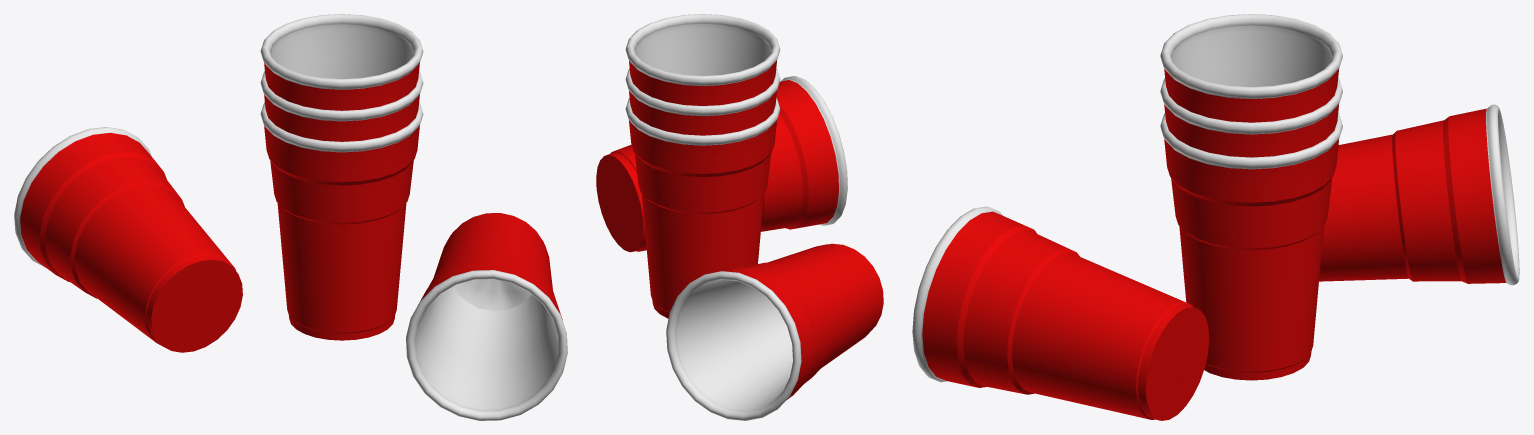
The model's file is solocup4.fbx.
3 views of the same model, side by side, from view 1: azimuth 30°, elevation 25°; view 2: azimuth 150°, elevation 25°; view 3: azimuth 270°, elevation 25° (orthographic). The views are drawn at different scales.
Visible parts, largest first — view 1: pCylinder5, pCylinder1, pCylinder6, pCylinder4, pCylinder3; view 2: pCylinder5, pCylinder1, pCylinder6, pCylinder4, pCylinder3; view 3: pCylinder6, pCylinder1, pCylinder5, pCylinder4, pCylinder3.
Part boxes in pixels (box(x1,y1,x2,y2)): pCylinder5: box(14, 127, 242, 352); pCylinder1: box(260, 102, 423, 340); pCylinder6: box(406, 213, 567, 420); pCylinder4: box(260, 14, 423, 110); pCylinder3: box(260, 71, 423, 141); pCylinder5: box(666, 243, 883, 420); pCylinder1: box(625, 98, 780, 318); pCylinder6: box(596, 76, 847, 252); pCylinder4: box(625, 14, 780, 105); pCylinder3: box(625, 68, 780, 135); pCylinder6: box(912, 206, 1209, 420); pCylinder1: box(1160, 113, 1342, 380); pCylinder5: box(1319, 104, 1519, 285); pCylinder4: box(1160, 14, 1342, 122); pCylinder3: box(1160, 78, 1342, 157).
Bounding box in the file's own units: 11.22 × 8.08 × 14.05.
